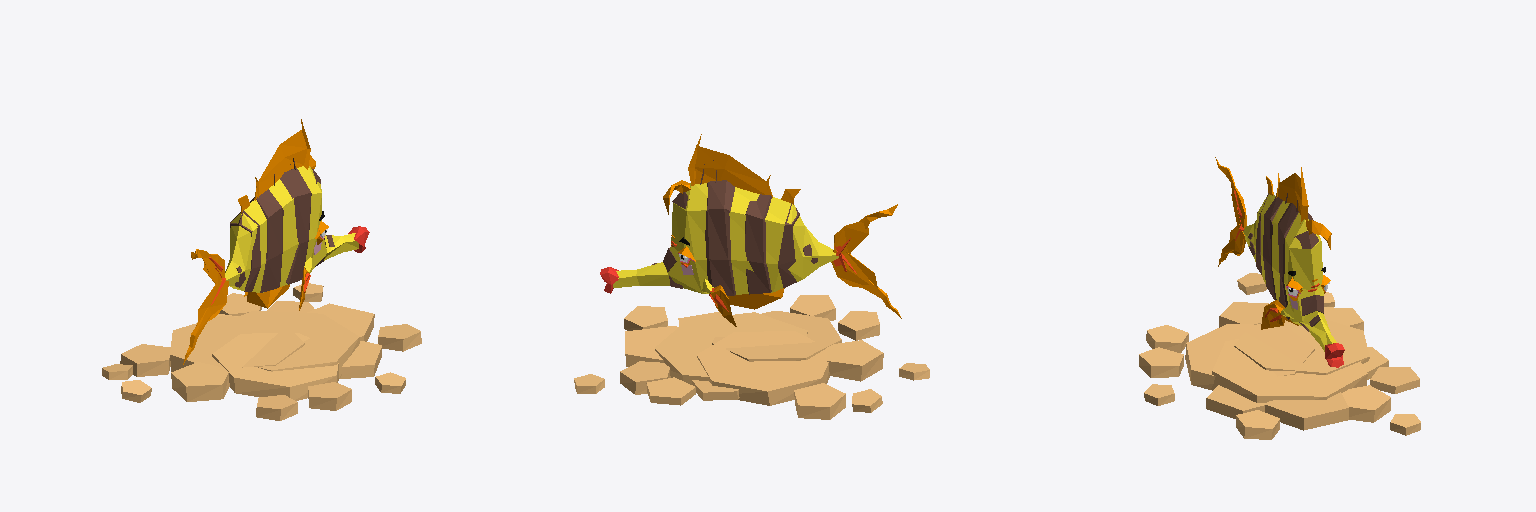
The model's file is fish.obj.
3 views of the same model, side by side, from view 1: azimuth 30°, elevation 25°; view 2: azimuth 150°, elevation 25°; view 3: azimuth 270°, elevation 25° (orthographic).
Parts seen in each view (by area): view 1: group[number redacted], group[number redacted]; view 2: group[number redacted], group[number redacted]; view 3: group[number redacted], group[number redacted].
Boxes of the visible parts, x1,y1,x2,y2 form: group[number redacted]: [102, 283, 421, 420]; group[number redacted]: [183, 119, 369, 364]; group[number redacted]: [574, 295, 929, 419]; group[number redacted]: [600, 134, 901, 326]; group[number redacted]: [1139, 273, 1420, 439]; group[number redacted]: [1215, 157, 1344, 367].
Size of the model in its own units: 1.3 by 0.9841 by 1.07.